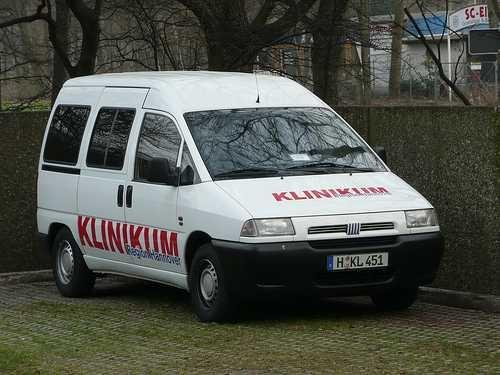car: (34, 68, 444, 322)
